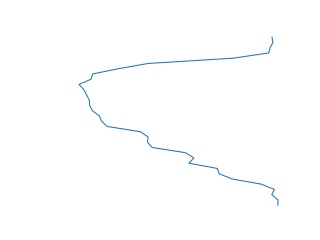mouthBar: (73, 37, 286, 207)
